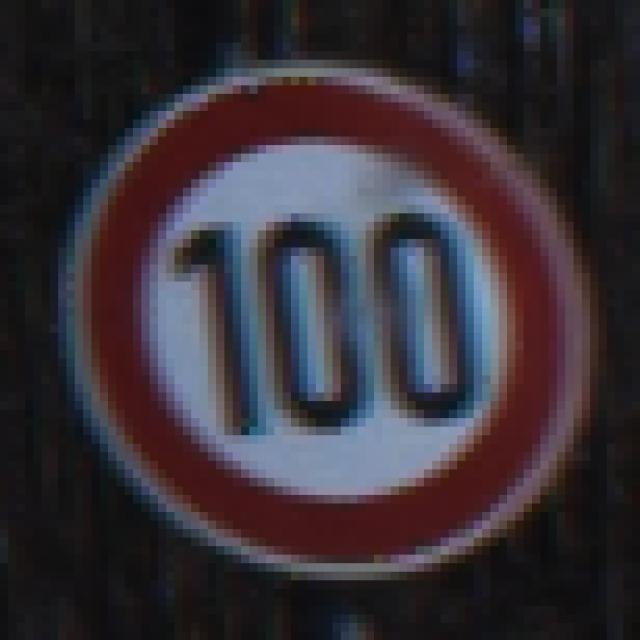speed limit 100: (61, 63, 588, 579)
